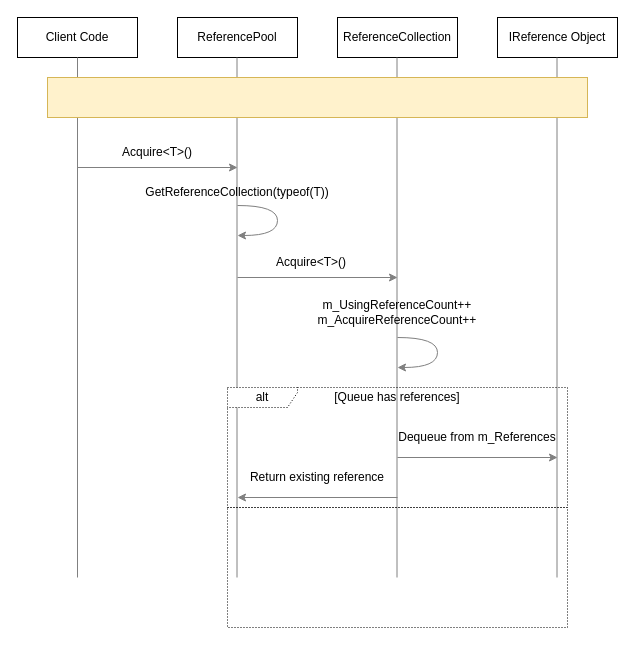
This 635x645 diagram has some shape labels left out. Here are the shapes that lost their labels. From the top down, the centre of each, then its label:
At [317,97]: "Acquiring a Reference".
At [397,567]: "[Queue is empty]".
